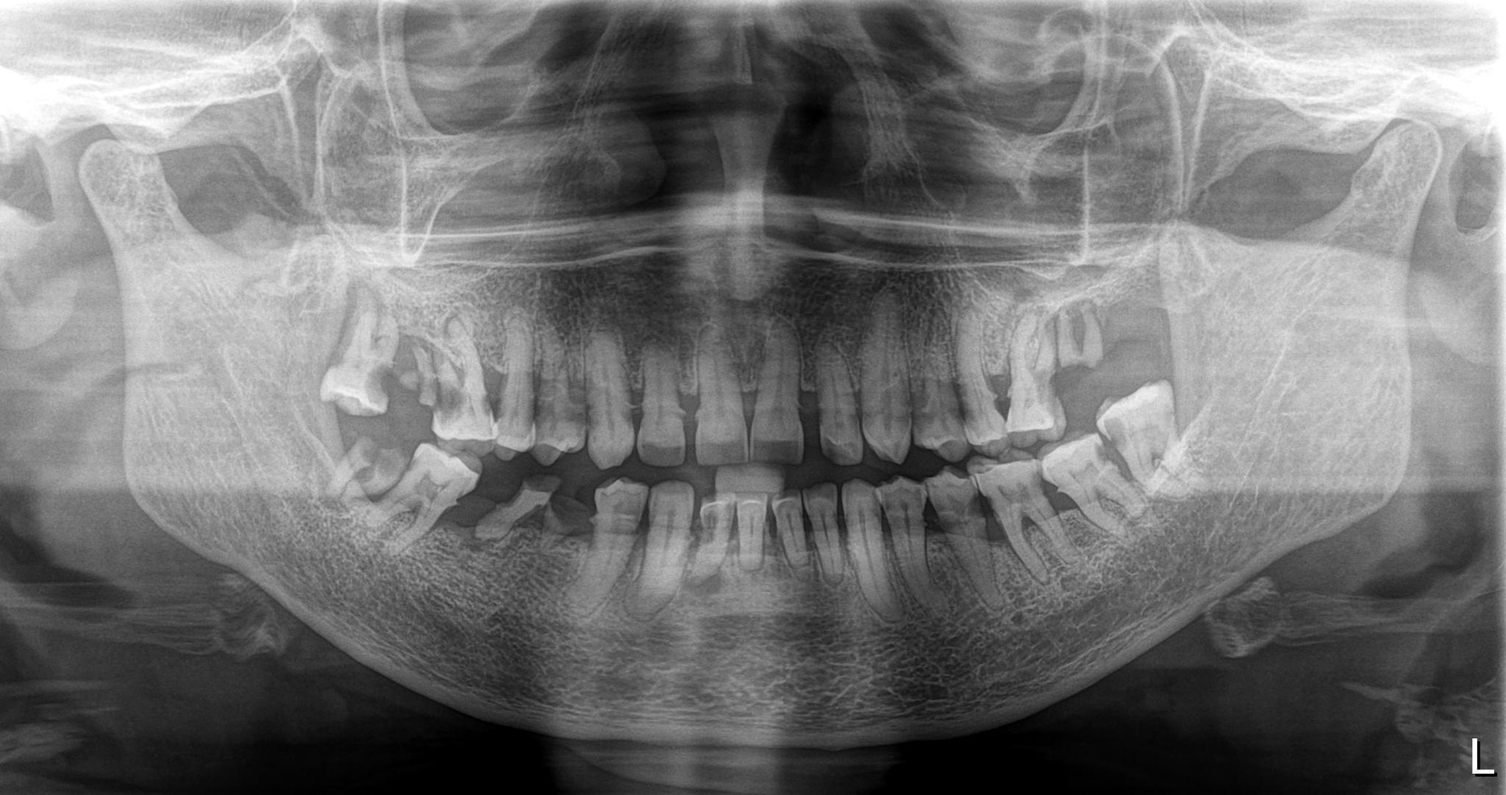Dental Caries: (364, 366, 389, 401), (436, 395, 465, 425)
Missing Tooth: (1105, 287, 1171, 385)
Retained Root: (467, 482, 589, 587), (325, 434, 405, 501), (395, 338, 446, 426), (1055, 314, 1104, 401)
